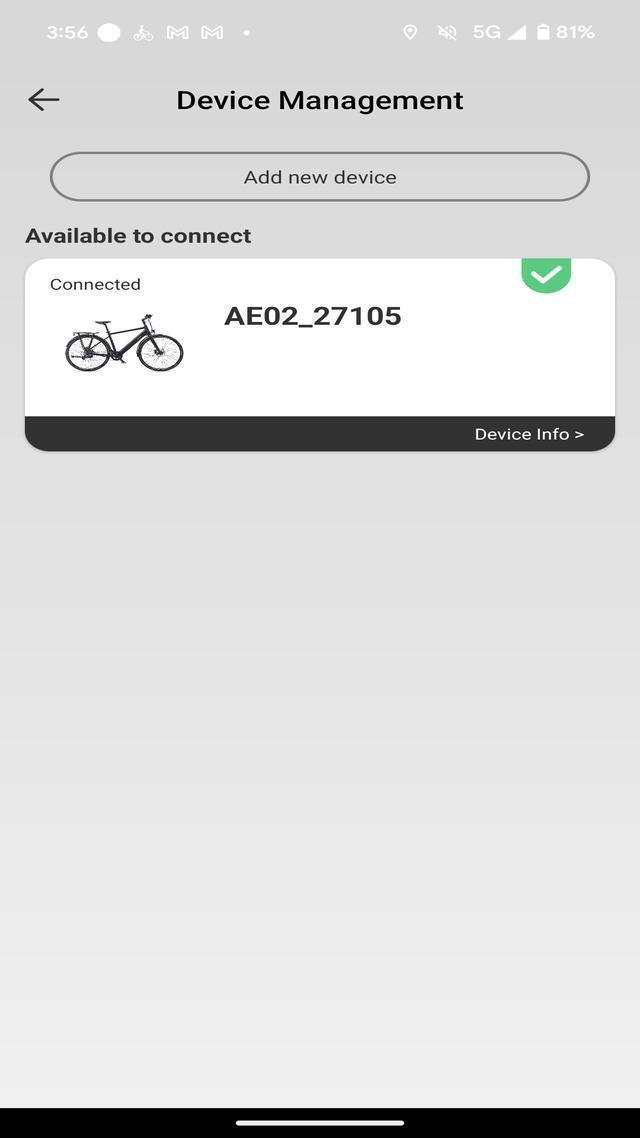Icon: (520, 258, 574, 297), (469, 22, 529, 44), (28, 88, 61, 114), (94, 22, 122, 44), (132, 22, 159, 44), (434, 22, 460, 44), (200, 23, 226, 43), (165, 24, 190, 42), (402, 24, 418, 46), (535, 23, 551, 42), (240, 25, 254, 39)
Image: (59, 313, 190, 384)
Text: (173, 84, 476, 120), (219, 299, 409, 333), (19, 223, 256, 247), (242, 166, 399, 191), (462, 422, 588, 447), (39, 272, 148, 300), (44, 21, 92, 43), (556, 22, 600, 44)
TextButton: (51, 150, 592, 204), (24, 413, 617, 453)
